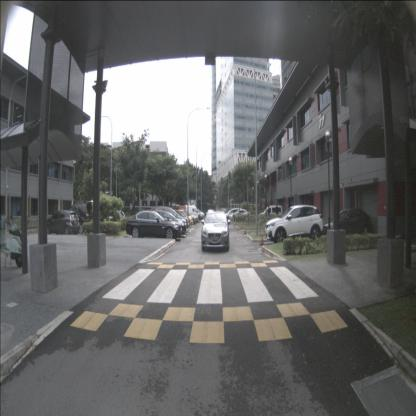human-pedestrian-adult: (275, 203, 279, 221), (267, 205, 271, 220)
movable_object-trafficcone: (259, 228, 265, 245), (243, 222, 247, 234), (240, 220, 243, 230), (235, 218, 237, 225)
vehicle-car: (265, 204, 323, 244), (126, 211, 182, 239), (323, 208, 371, 238), (142, 209, 186, 236), (202, 210, 229, 251), (60, 203, 92, 234), (151, 206, 188, 232), (45, 210, 80, 235), (178, 205, 200, 223), (258, 205, 282, 221), (173, 210, 198, 225), (170, 210, 194, 225), (104, 210, 126, 225), (228, 209, 251, 221), (223, 208, 244, 221), (187, 212, 203, 221), (190, 209, 205, 218)
vehicle-motorcycle: (0, 213, 27, 268)
